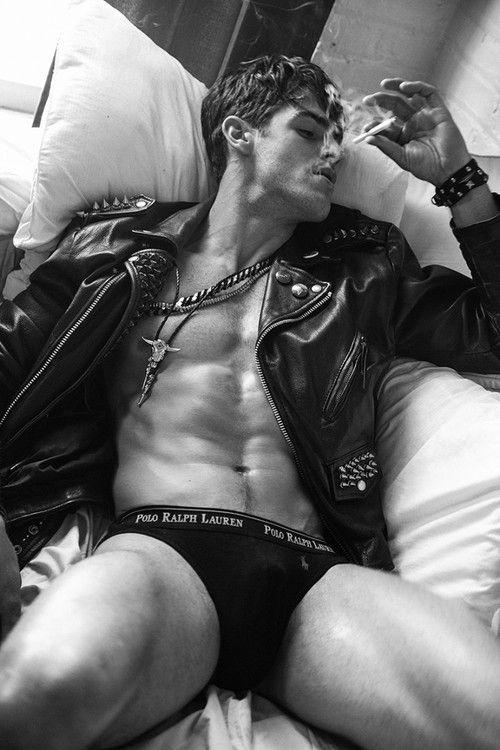cigarette: (351, 115, 396, 145)
